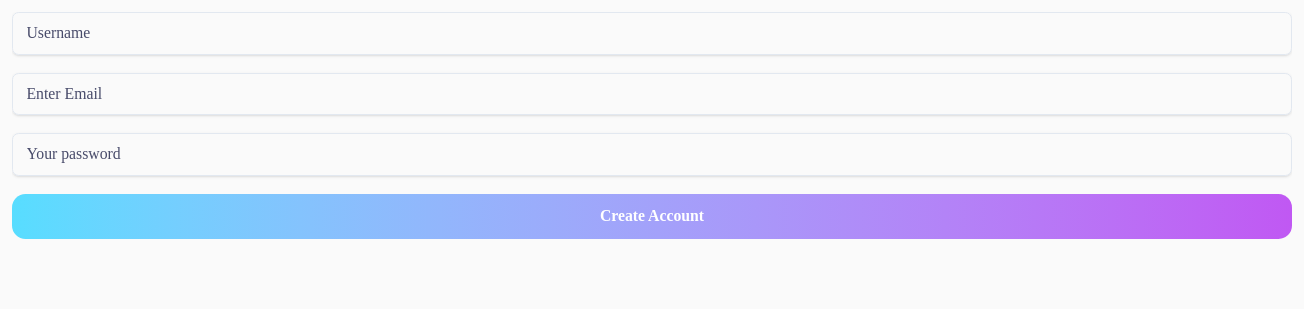
Scenario: RegisterForm › should show internal server error
In the field with placeholder "Username": point(652, 33) [12,12,1292,54], type "bob"
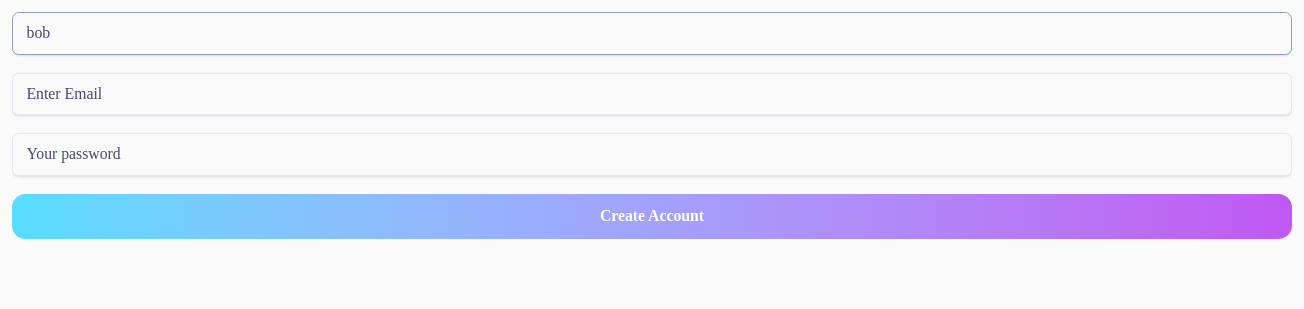
In the field with placeholder "Enter Email": point(652, 94) [12,72,1292,115], type "bob@example.com"
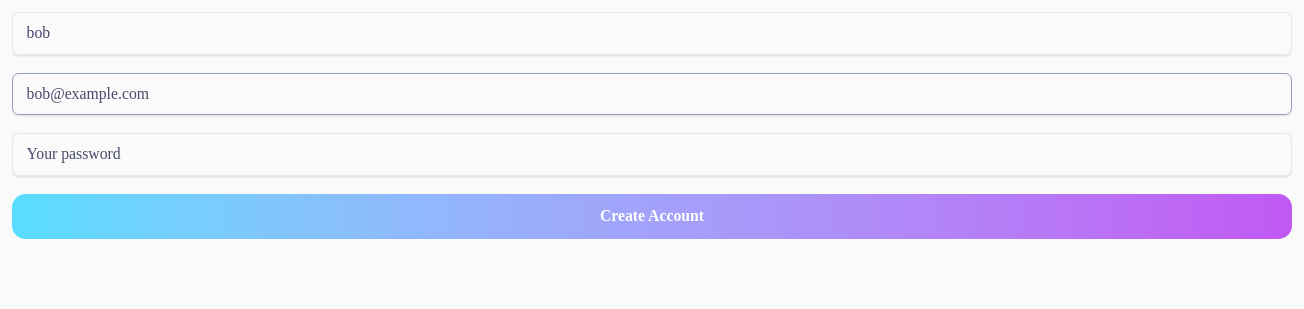
In the password field with placeholder "Your password": point(652, 154) [12,133,1292,176], type "secret123"
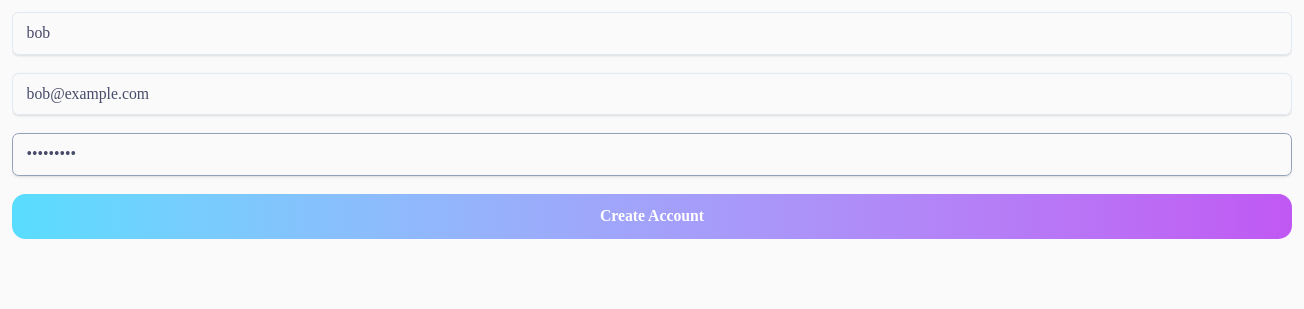
Click the button "Create Account": point(652, 216) [12,194,1292,238]
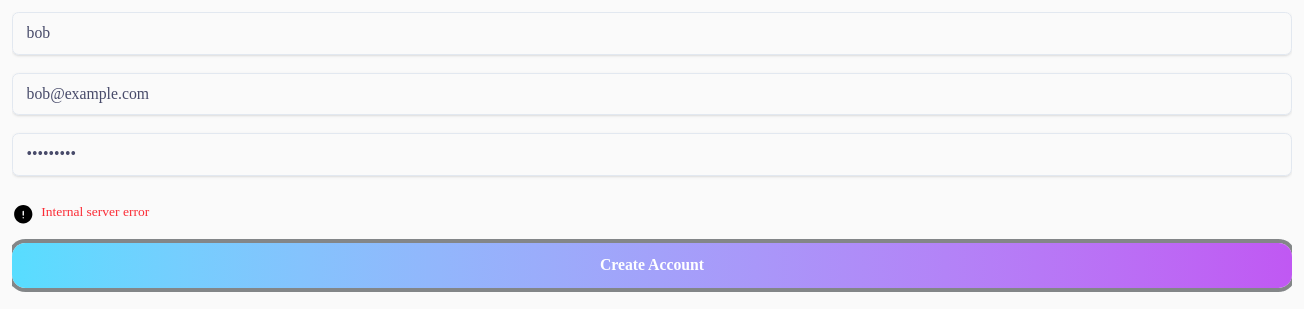
Check: the text "Internal server error" is shown, box [12,202,149,225]
